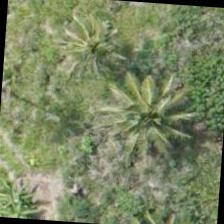Kelapa_Sawit: (102, 70, 198, 166)
